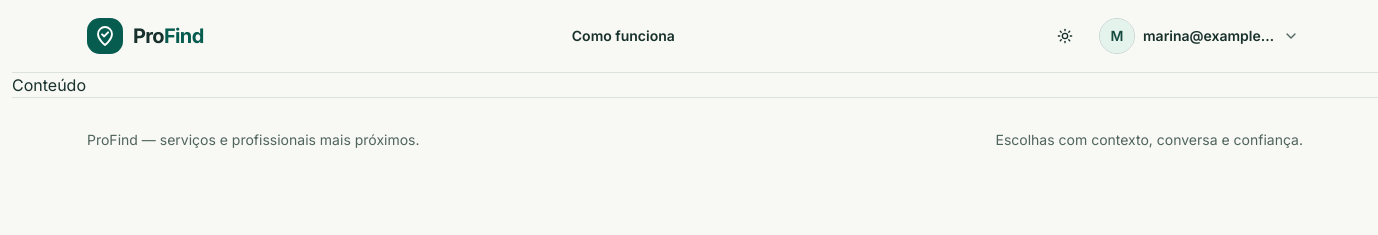
PublicLayout › mantém o erro de logout visível após falha no desktop
Click the button with aria-label "Abrir menu da conta de marina@example.com": (1199,36) top-left (1095, 14), bottom-right (1303, 58)
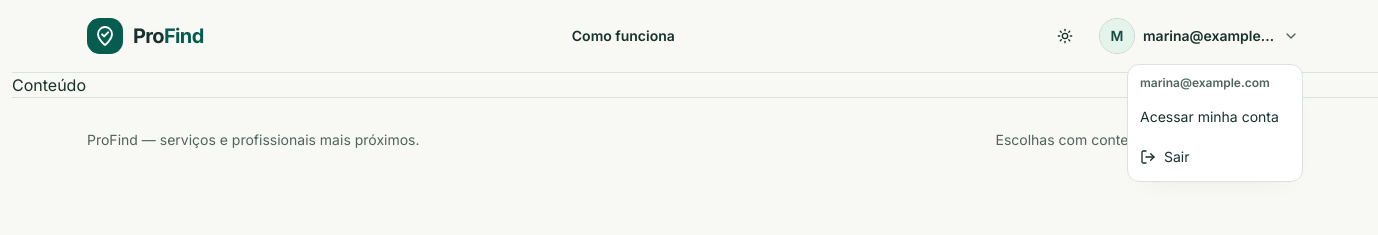
Click the menu item "Sair": (1165,156) top-left (1140, 148), bottom-right (1190, 165)
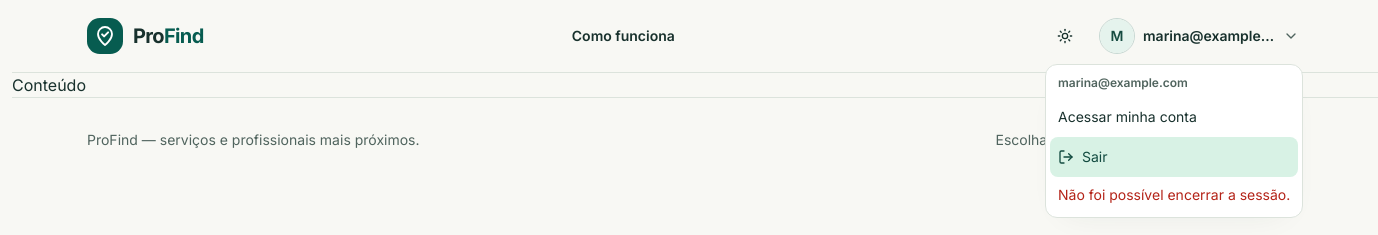
Expected: the message reads "Não foi possível encerrar a sessão.", top-left (1058, 186), bottom-right (1290, 203)
